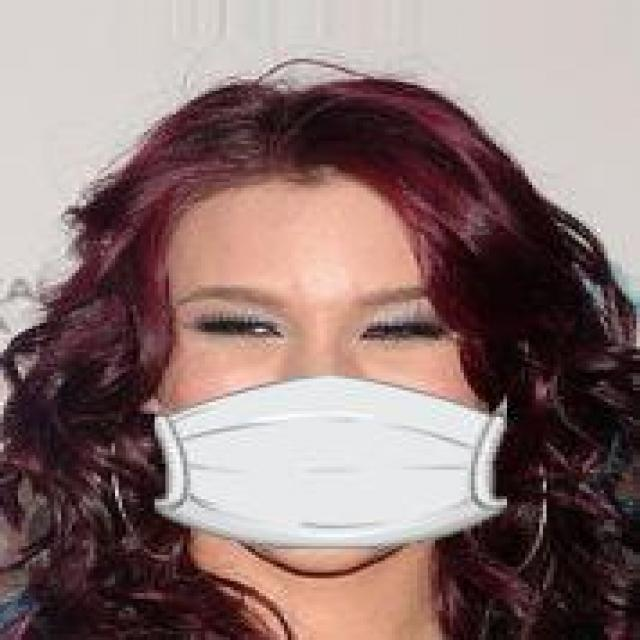mask: (101, 47, 561, 570)
